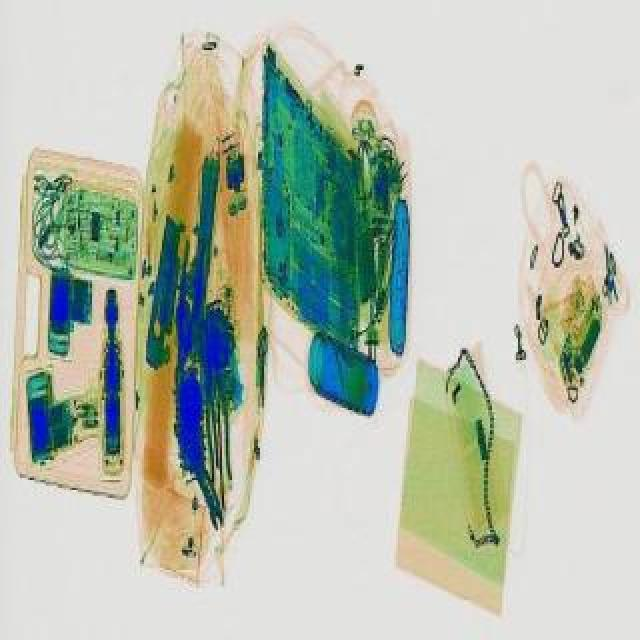scissors: (182, 436, 228, 526)
wrench: (196, 314, 234, 480)
